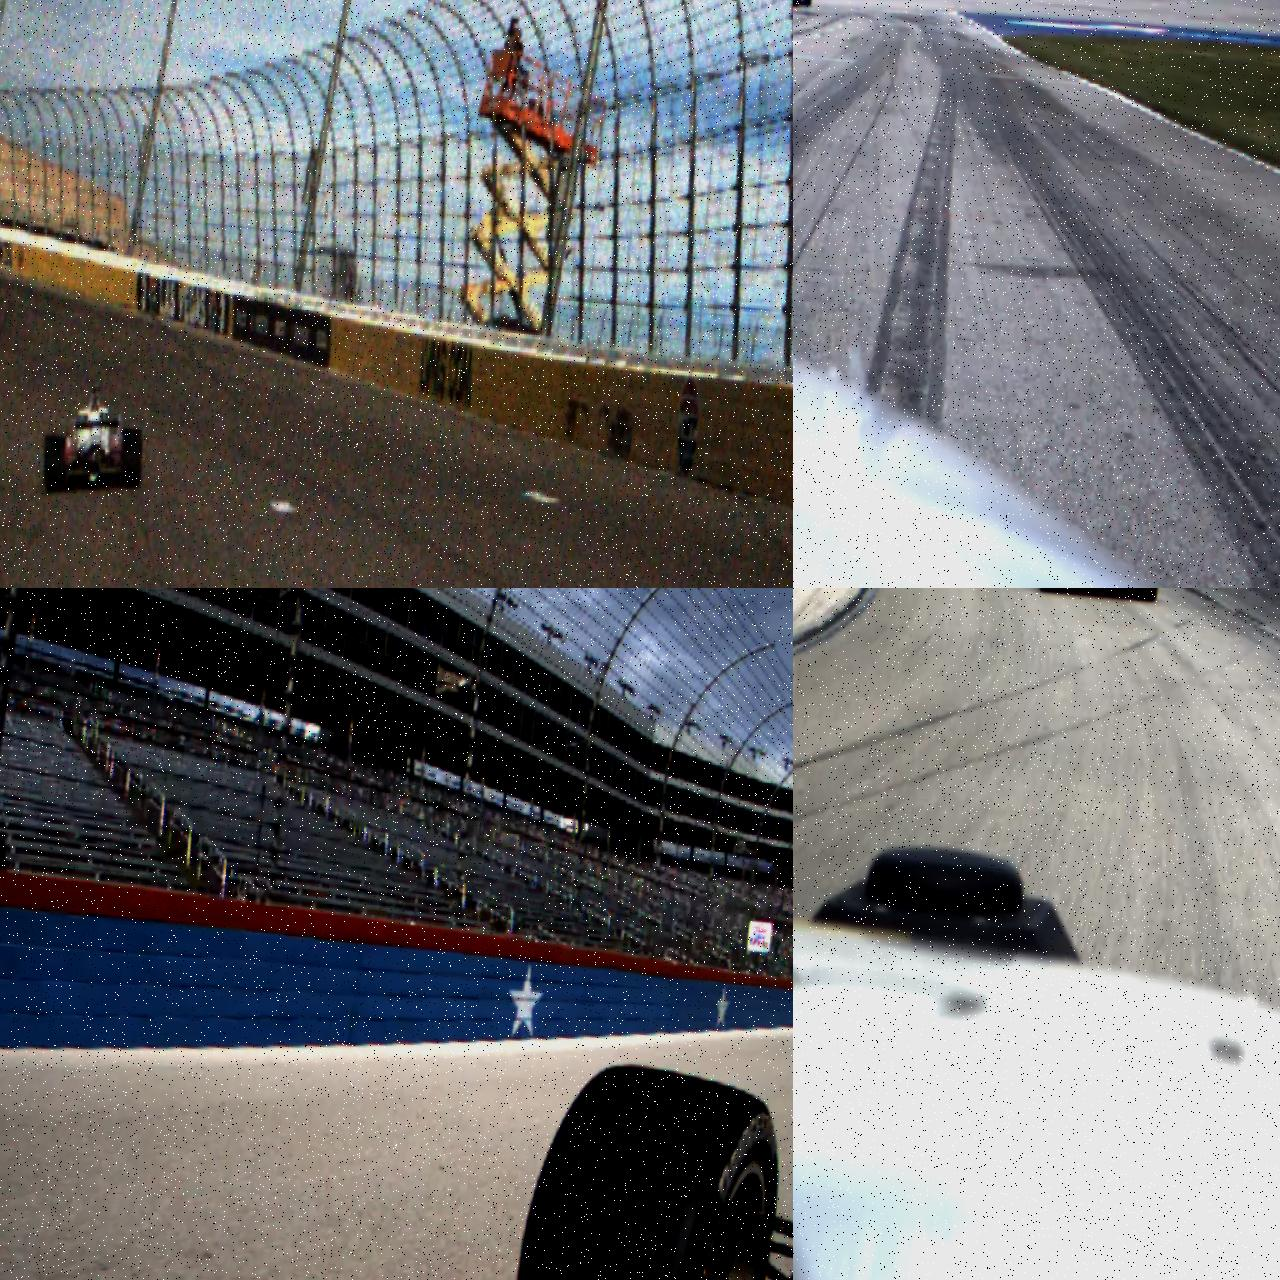AV: (40, 381, 148, 502)
Wheel: (515, 1054, 788, 1280), (41, 435, 69, 495), (120, 428, 144, 490), (1132, 588, 1160, 602), (804, 0, 812, 7)
